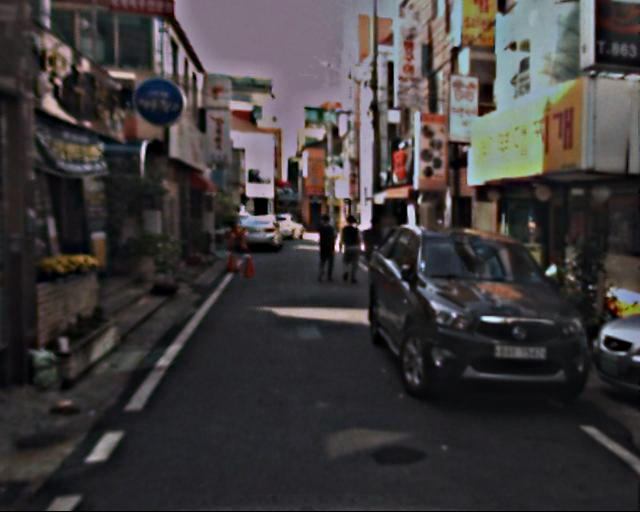person: (358, 215, 388, 288), (335, 214, 365, 286), (311, 214, 340, 285)
